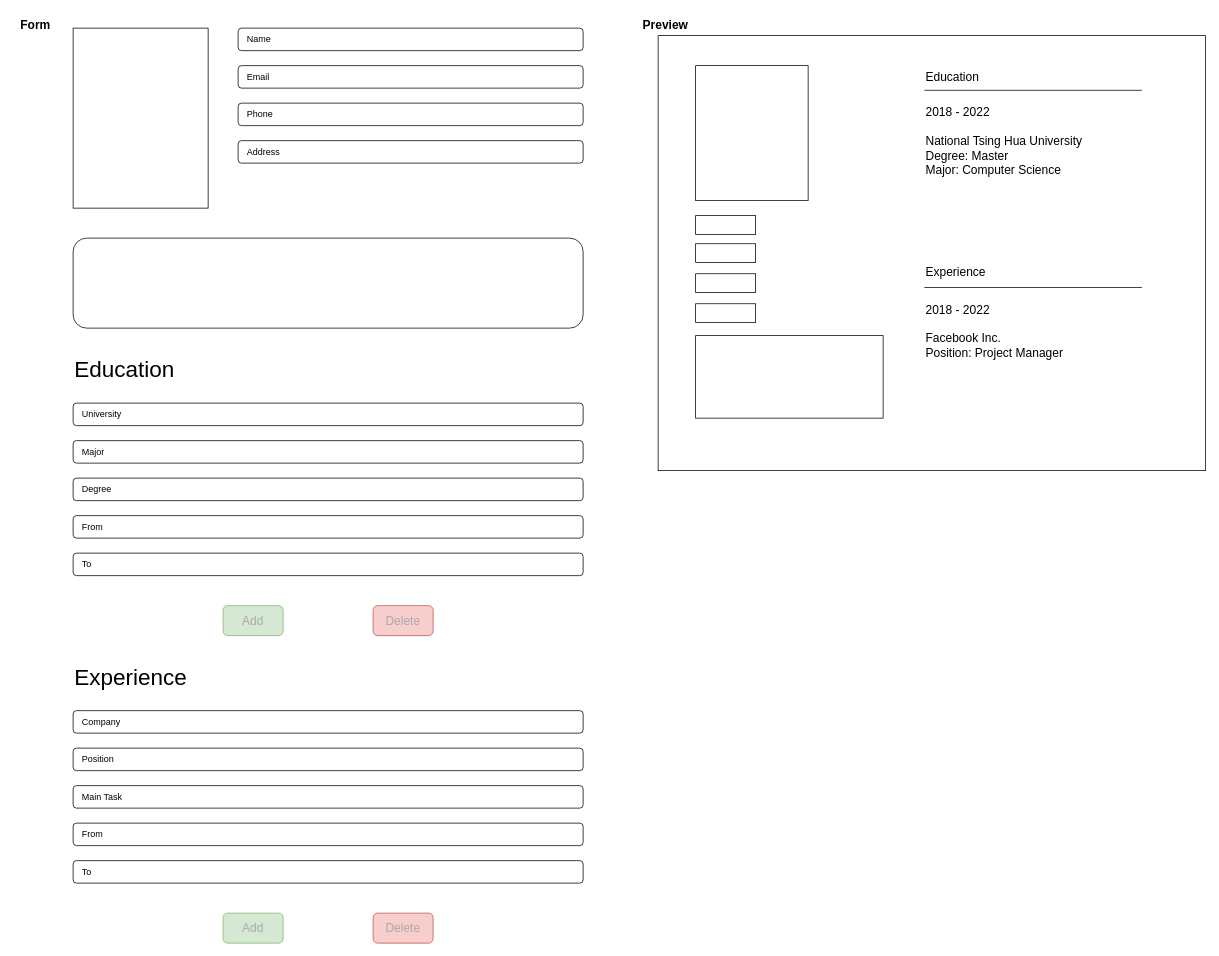
The diagram is 1219 pixels wide and 956 high, and some of its shapes have lost their labels. The box of each missing label's shape, as (x1, y1, x2, y2) in pixels:
Biography: (72, 237, 583, 328)
Headshot: (72, 27, 208, 208)
